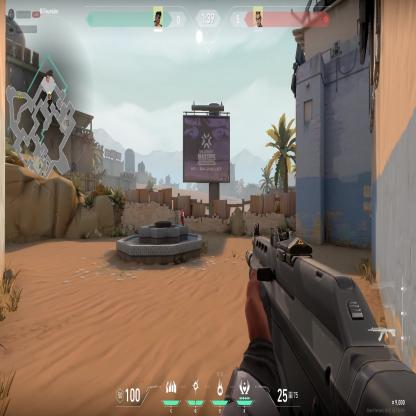enemy: (179, 207, 185, 225)
